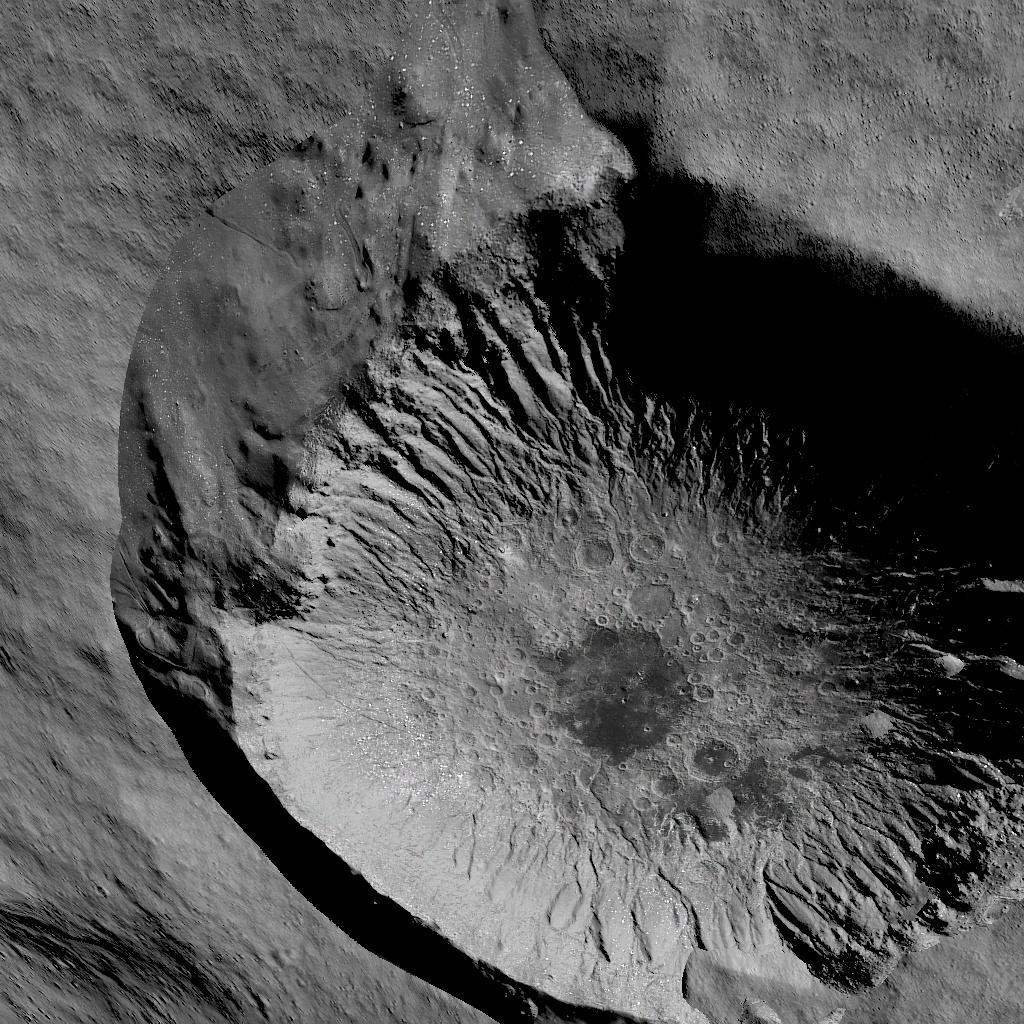Crater: (103, 91, 1024, 1024)
